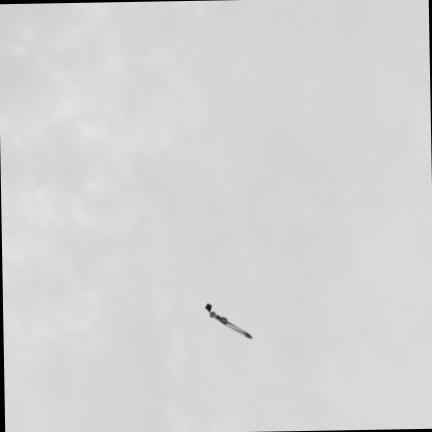Shahed: (204, 303, 251, 338)
